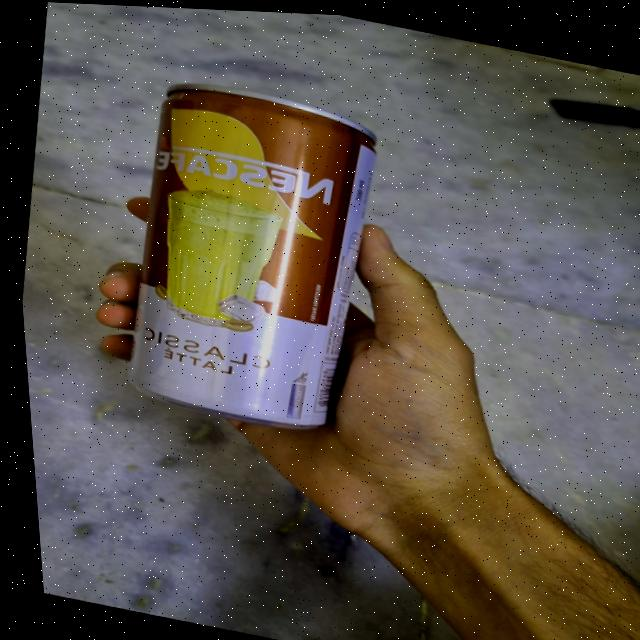Nescafe Classic Iced Latte: (92, 71, 410, 444)
